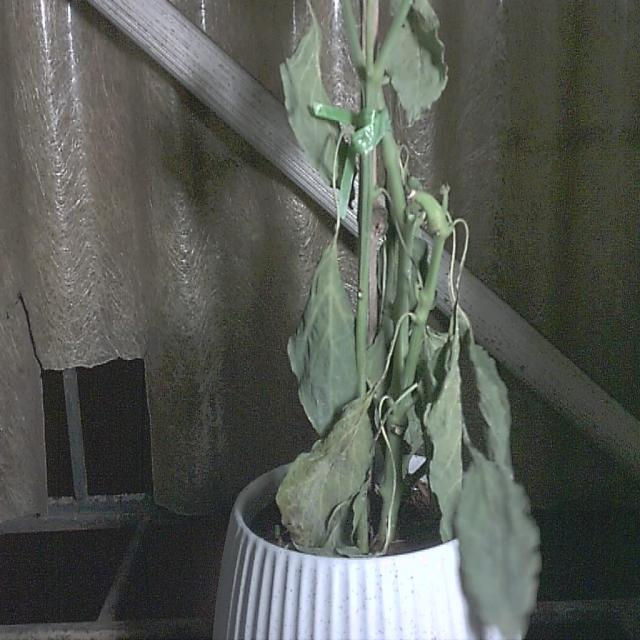Leaf: (285, 243, 368, 439), (275, 398, 372, 554)
